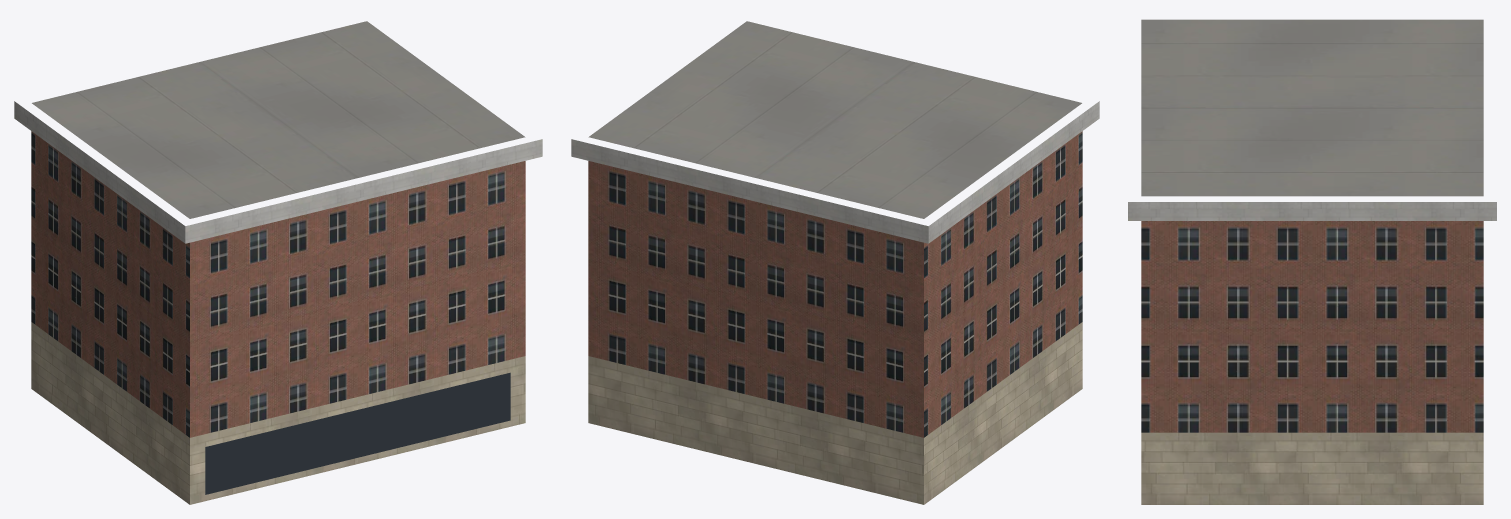
The model's file is dc_brick_corner.glb.
The picture shows the model from 3 angles, left to right: view 1: azimuth 30°, elevation 25°; view 2: azimuth 150°, elevation 25°; view 3: azimuth 270°, elevation 25°; orthographic projection. The views are drawn at different scales.
Parts seen in each view (by area): view 1: dc_brick_corner; view 2: dc_brick_corner; view 3: dc_brick_corner.
Part boxes in pixels (<box>): dc_brick_corner: <box>14,21,542,504</box>; dc_brick_corner: <box>571,21,1099,504</box>; dc_brick_corner: <box>1128,19,1496,504</box>.
Bounding box in the file's own units: 23.4 × 17.9 × 19.4.
Materials: 5 (5 with a texture image).
